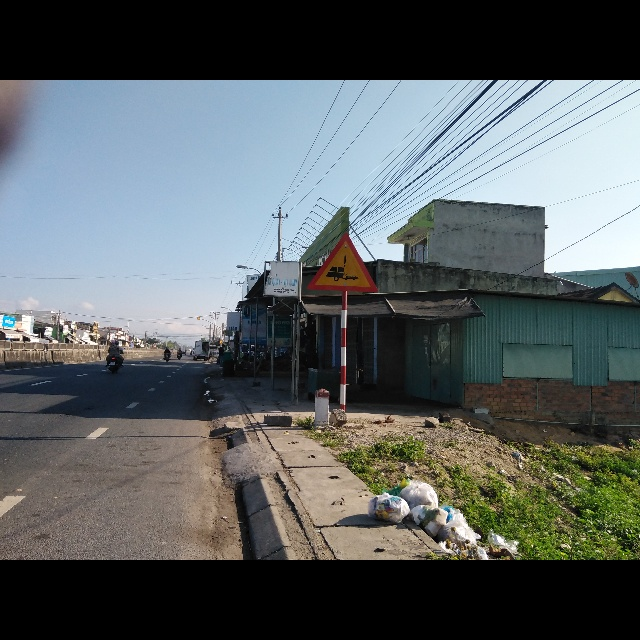Đoạn đường hay xảy ra tai nạn: (305, 229, 384, 292)
